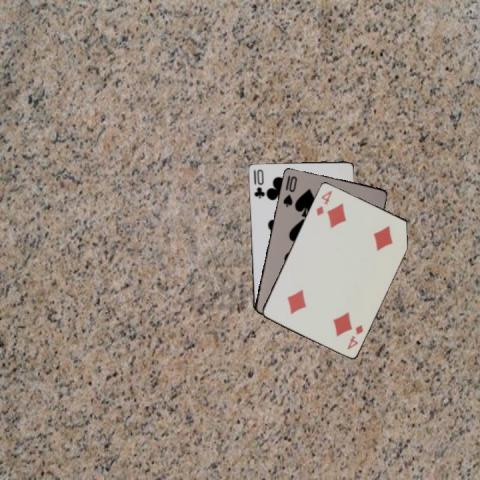10c: (250, 166, 265, 199)
10s: (280, 173, 298, 207)
4d: (344, 321, 365, 351), (313, 188, 333, 218)
